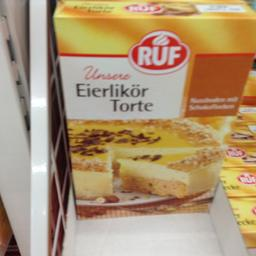cake: (50, 1, 252, 216)
